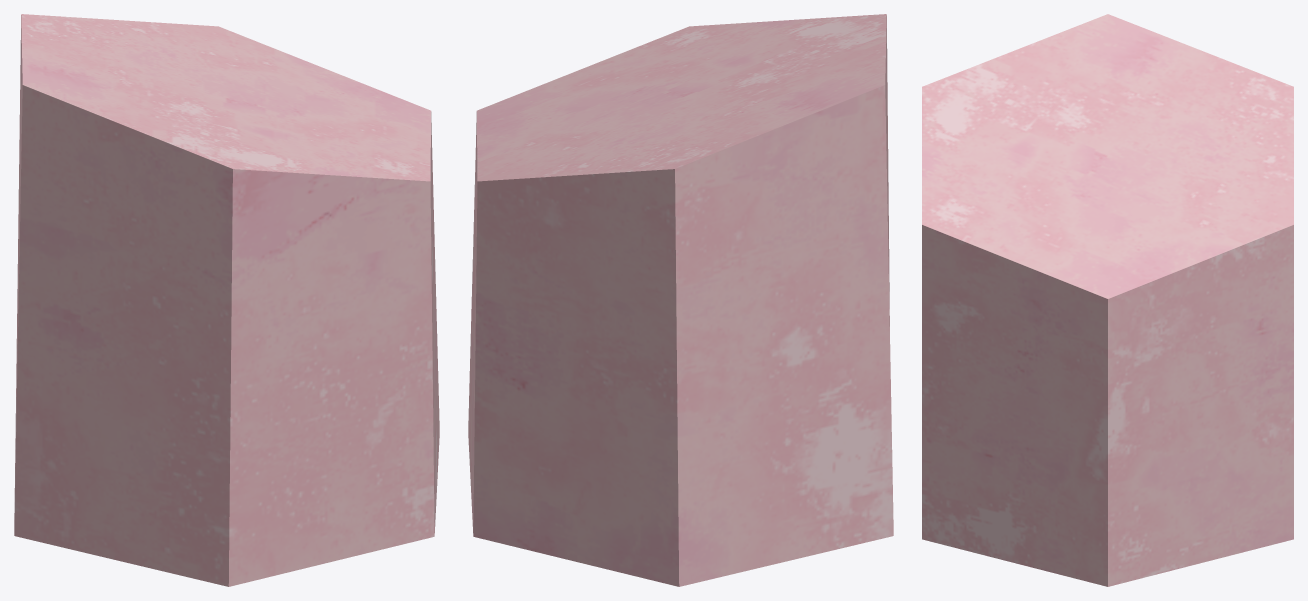
File: chunk.gltf
3 renders of one model, left to right at view 1: azimuth 30°, elevation 25°; view 2: azimuth 150°, elevation 25°; view 3: azimuth 270°, elevation 25°, orthographic. The views are drawn at different scales.
Visible parts, largest first — view 1: Cube; view 2: Cube; view 3: Cube.
Boxes of the visible parts, x1,y1,x2,y2 form: Cube: (14,14,439,586); Cube: (468,14,893,586); Cube: (922,14,1293,586).
Bounding box in the file's own units: 2.32 × 2.34 × 2.
1 material, 1 textured.
